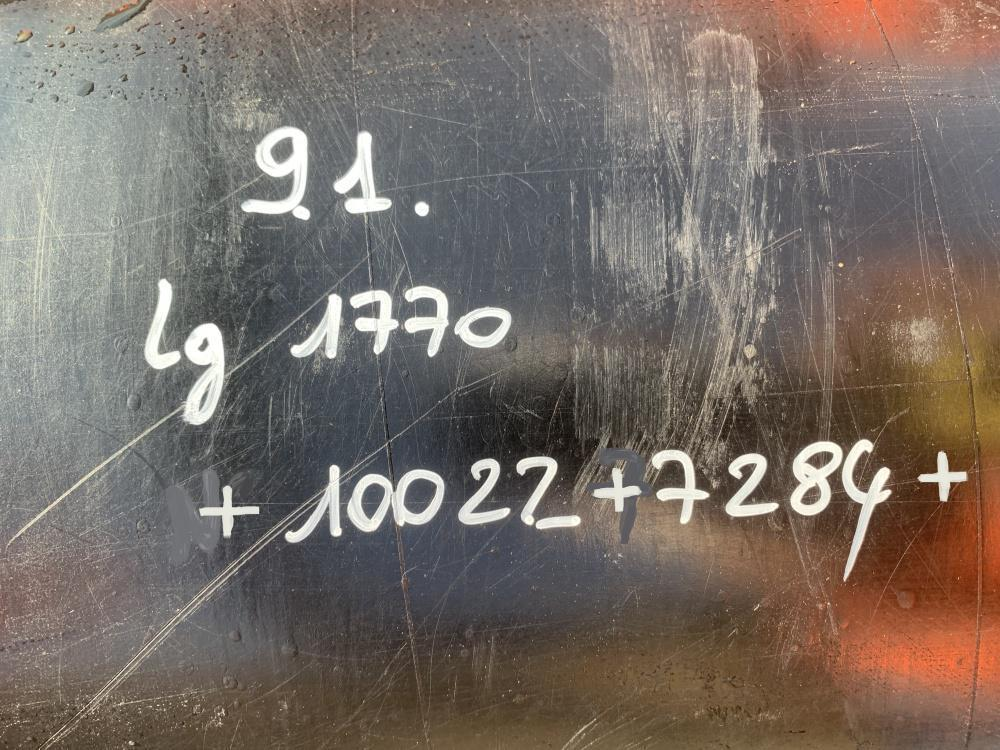+: (198, 484, 258, 536), (916, 449, 966, 504), (594, 467, 640, 515)
0: (389, 466, 444, 526), (456, 304, 516, 350), (347, 472, 389, 536)
1: (329, 125, 394, 217), (289, 466, 344, 548), (290, 292, 347, 366)
2: (509, 455, 585, 535), (724, 453, 778, 523), (457, 457, 511, 525)
4: (842, 438, 893, 581)
7: (648, 448, 708, 530), (404, 284, 455, 357), (352, 289, 401, 362)
8: (790, 442, 839, 517)
9: (240, 127, 311, 224)
